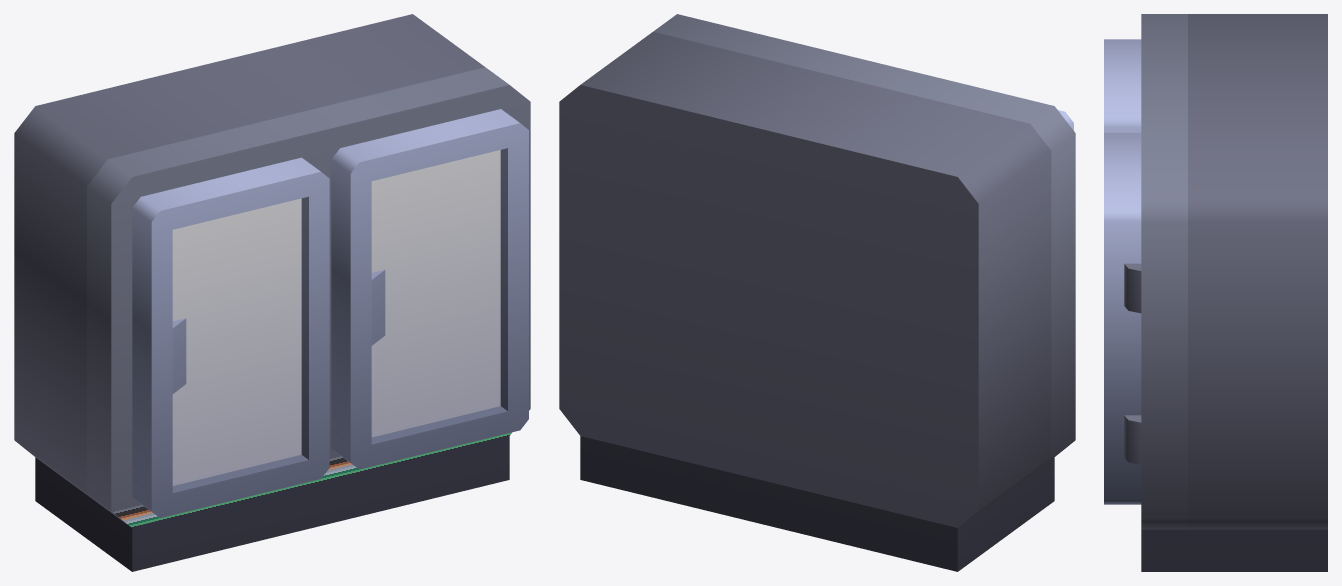
File: freezers-standing.glb
3 renders of one model, left to right at view 1: azimuth 30°, elevation 25°; view 2: azimuth 150°, elevation 25°; view 3: azimuth 270°, elevation 25°, orthographic. The views are drawn at different scales.
Parts seen in each view (by area): view 1: freezers-standing; view 2: freezers-standing; view 3: freezers-standing.
Part boxes in pixels (x1,y1,x2,y2): freezers-standing: [14, 14, 530, 571]; freezers-standing: [559, 14, 1075, 571]; freezers-standing: [1104, 14, 1327, 571].
Size of the model in its own units: 1 by 0.9 by 0.48.
1 material, 1 textured.
